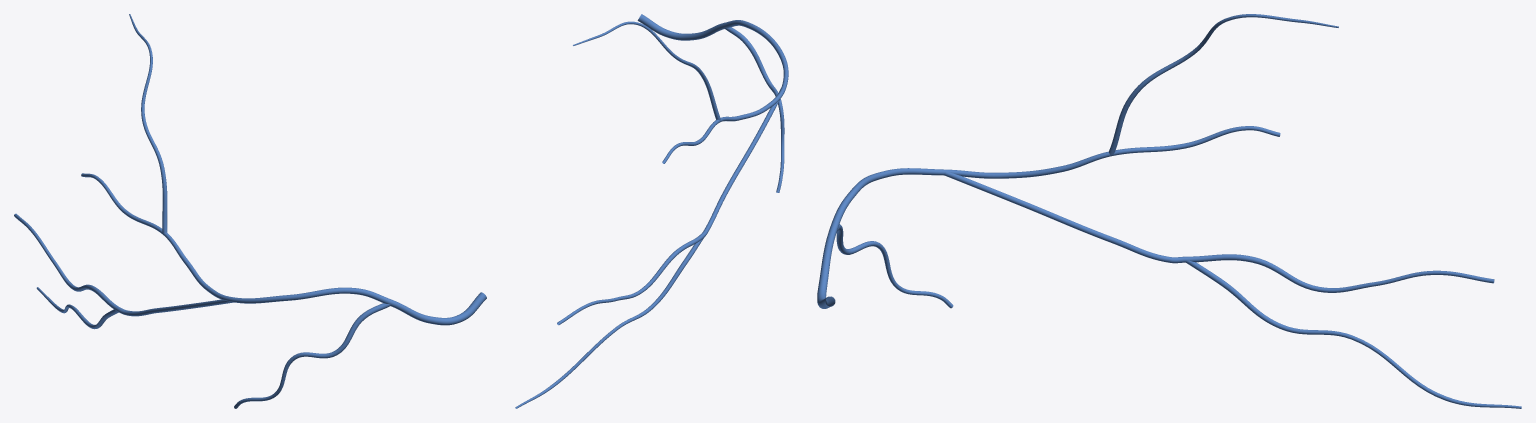
3 views of the same model, side by side, from view 1: azimuth 30°, elevation 25°; view 2: azimuth 150°, elevation 25°; view 3: azimuth 270°, elevation 25° (orthographic). The views are drawn at different scales.
Parts seen in each view (by area): view 1: 右膈上静脉; view 2: 右膈上静脉; view 3: 右膈上静脉.
Boxes of the visible parts, box(x1,y1,x2,y2) form: 右膈上静脉: box(14, 14, 486, 408); 右膈上静脉: box(515, 14, 788, 408); 右膈上静脉: box(817, 14, 1521, 408).
Size of the model in its own units: 0.1039 by 0.1483 by 0.2402.
